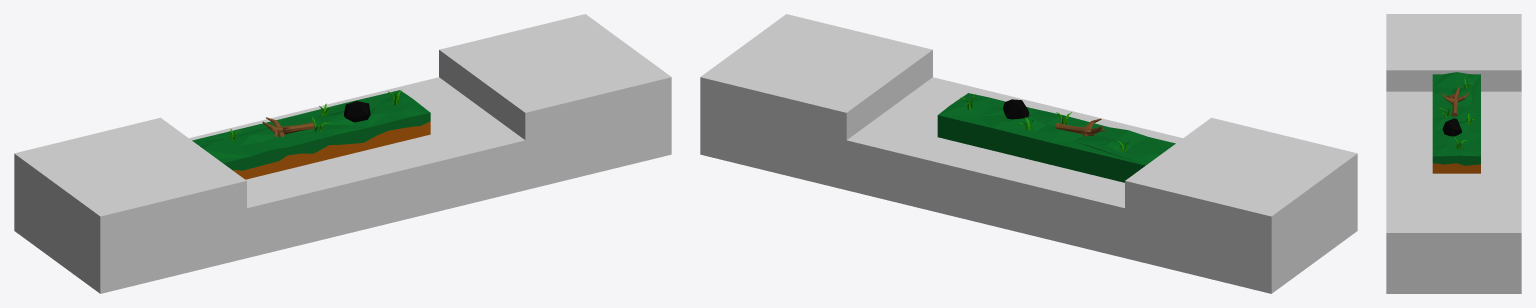
File: Easy_Obstacle_Forest_2.fbx
3 views of the same model, side by side, from view 1: azimuth 30°, elevation 25°; view 2: azimuth 150°, elevation 25°; view 3: azimuth 270°, elevation 25° (orthographic). The views are drawn at different scales.
Parts seen in each view (by area): view 1: Cube, Icosphere.001; view 2: Cube, Icosphere.001; view 3: Cube, Icosphere.001.
Part boxes in pixels (x1=…): Cube: x1=14, y1=14, x2=671, y2=293; Icosphere.001: x1=192, y1=90, x2=430, y2=179; Cube: x1=700, y1=14, x2=1357, y2=293; Icosphere.001: x1=937, y1=93, x2=1175, y2=182; Cube: x1=1386, y1=14, x2=1521, y2=293; Icosphere.001: x1=1432, y1=72, x2=1480, y2=173.
Bounding box in the file's own units: 10231 × 1497 × 2676.
